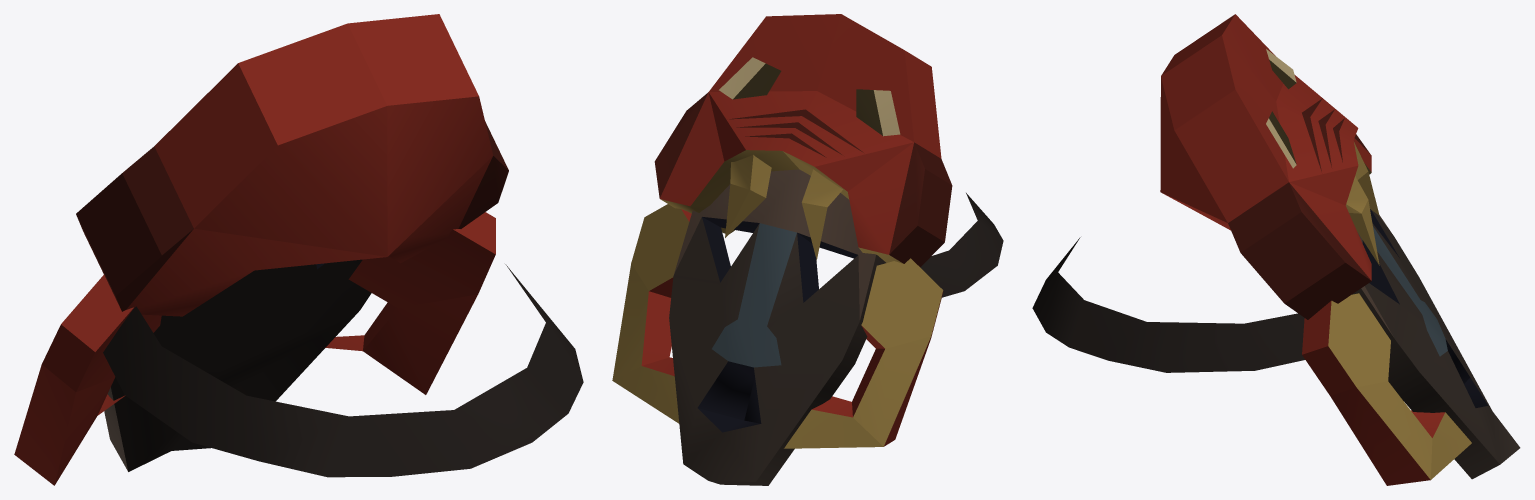
Rendered from hat_mayan3.glb.
3 views of the same model, side by side, from view 1: azimuth 30°, elevation 25°; view 2: azimuth 150°, elevation 25°; view 3: azimuth 270°, elevation 25° (orthographic). The views are drawn at different scales.
Visible parts, largest first — view 1: hat_mayan3; view 2: hat_mayan3; view 3: hat_mayan3.
Part boxes in pixels (x1,y1,x2,y2): hat_mayan3: (14, 14, 583, 485); hat_mayan3: (612, 14, 1003, 485); hat_mayan3: (1032, 14, 1520, 485).
Size of the model in its own units: 0.3835 by 0.4669 by 0.483.
